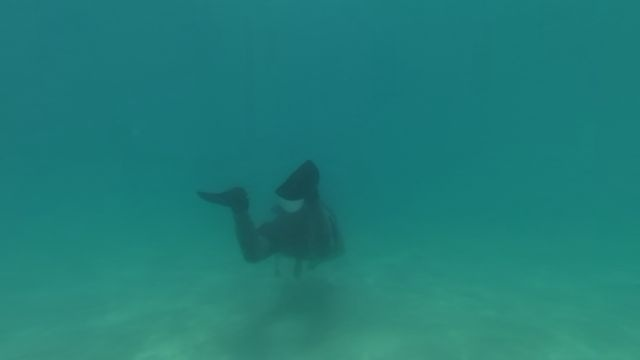Diver: (188, 153, 352, 270)
